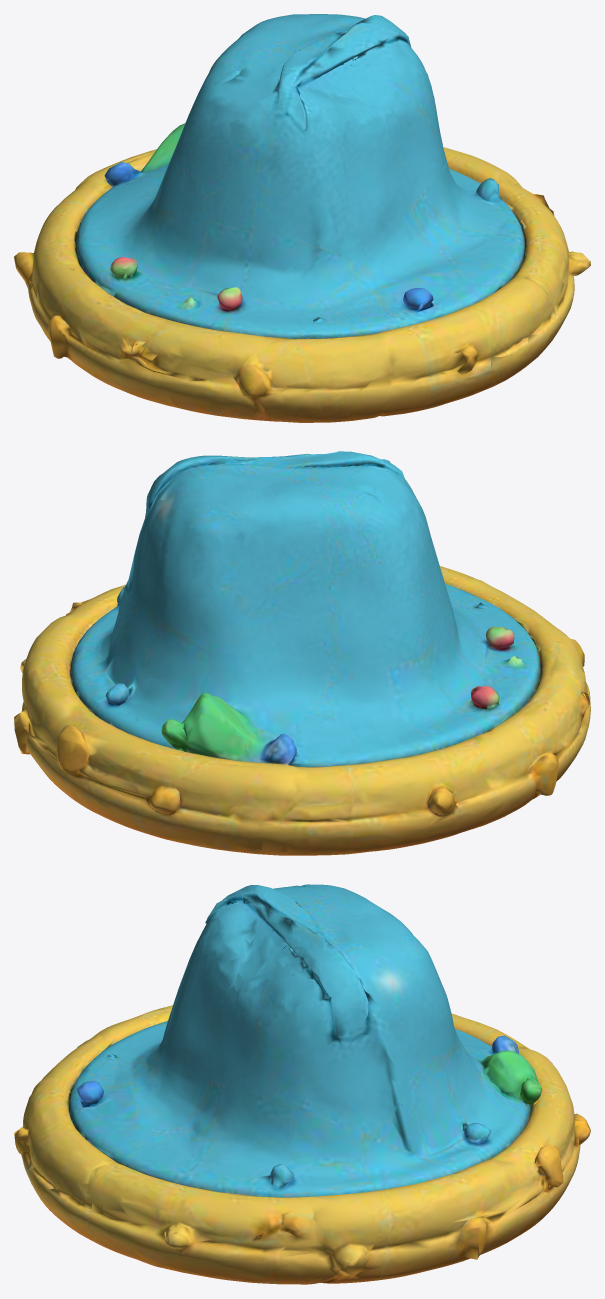
The model's file is env_race_ramp_01.glb.
3 renders of one model, top to bottom at view 1: azimuth 30°, elevation 25°; view 2: azimuth 150°, elevation 25°; view 3: azimuth 270°, elevation 25°, orthographic. The views are drawn at different scales.
Visible parts, largest first — view 1: env_race_ramp_01; view 2: env_race_ramp_01; view 3: env_race_ramp_01.
Part boxes in pixels (x1,y1,x2,y2): env_race_ramp_01: (14, 14, 590, 422); env_race_ramp_01: (14, 451, 590, 855); env_race_ramp_01: (14, 884, 590, 1284).
Bounding box in the file's own units: 2.19 × 1.2 × 2.19.
1 material, 1 textured.
